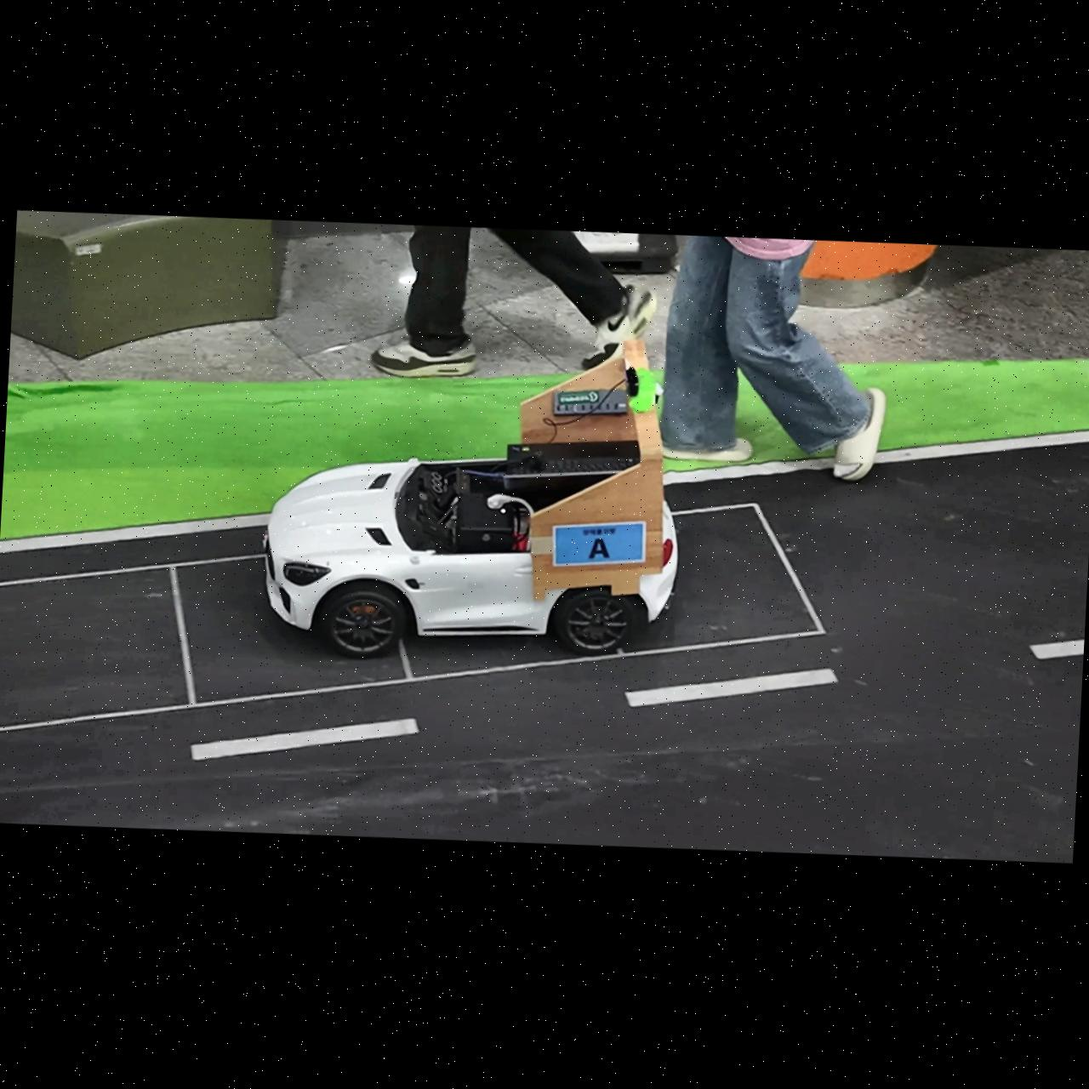broken_line: (189, 717, 419, 761), (623, 667, 838, 707), (1029, 639, 1083, 659)
